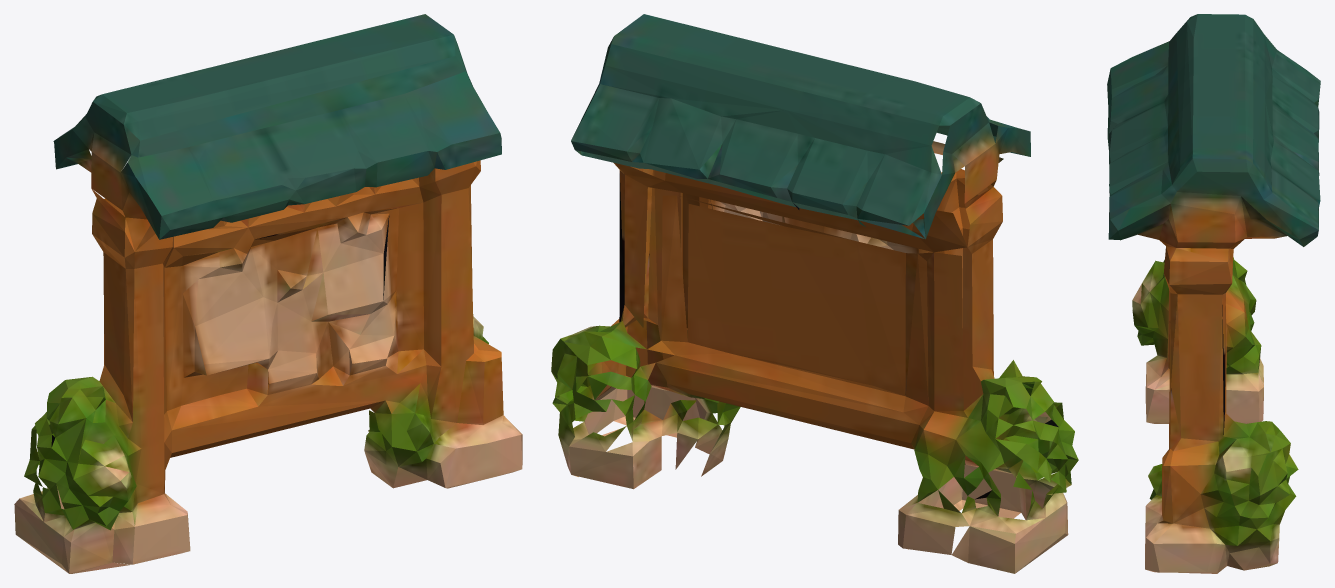
File: M-5_04_noticeboard.glb
The picture shows the model from 3 angles, left to right: view 1: azimuth 30°, elevation 25°; view 2: azimuth 150°, elevation 25°; view 3: azimuth 270°, elevation 25°; orthographic projection. The views are drawn at different scales.
Visible parts, largest first — view 1: loA; view 2: loA; view 3: loA.
Boxes of the visible parts, bbox=[...] form: loA: bbox=[14, 14, 522, 573]; loA: bbox=[551, 14, 1078, 573]; loA: bbox=[1107, 14, 1320, 573].
Size of the model in its own units: 3.65 by 3.17 by 1.54.
1 material, 1 textured.
